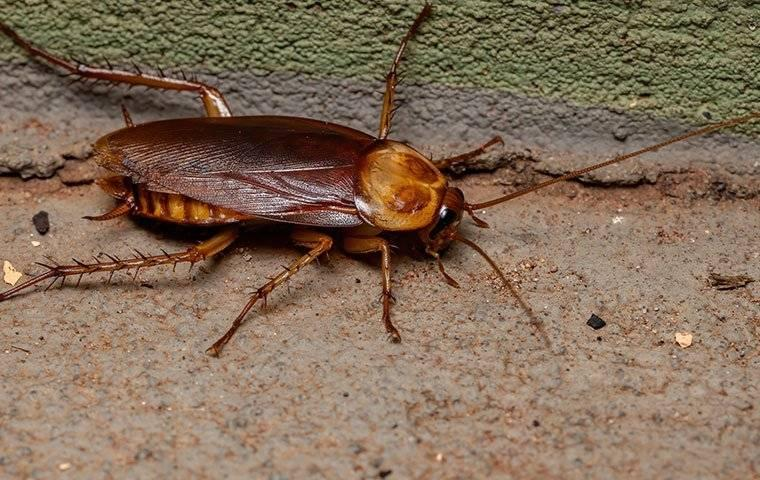cockroach: (74, 96, 475, 300)
